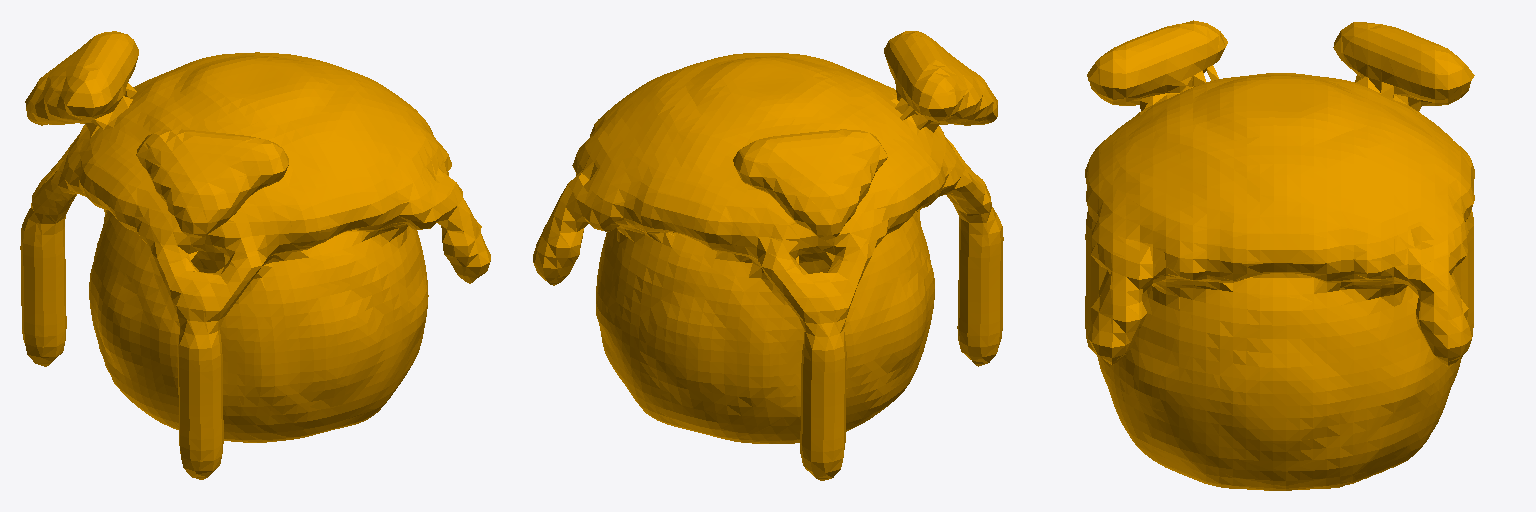
URDF robot description (object):
<?xml version="1.0"?>
<robot name="object">
  <link name="object">
    <visual>
      <origin xyz="0 0 0"/>
      <geometry>
        <mesh filename="meshes/subset_100_scaled/egad_F18_0_s.obj" scale=".03 .03 .03"/>
      </geometry>
    </visual>
    <collision>
  <origin xyz="0 0 0"/>
  <geometry>
    <mesh filename="meshes/subset_100_scaled/egad_F18_0_s_0decompose.obj" scale=".03 .03 .03"/>
<!--          <mesh filename="meshes/custom/obj0_ball.obj" scale=".05 .05 .05"/>-->
  </geometry>
</collision><collision>
  <origin xyz="0 0 0"/>
  <geometry>
    <mesh filename="meshes/subset_100_scaled/egad_F18_0_s_1decompose.obj" scale=".03 .03 .03"/>
<!--          <mesh filename="meshes/custom/obj0_ball.obj" scale=".05 .05 .05"/>-->
  </geometry>
</collision><collision>
  <origin xyz="0 0 0"/>
  <geometry>
    <mesh filename="meshes/subset_100_scaled/egad_F18_0_s_2decompose.obj" scale=".03 .03 .03"/>
<!--          <mesh filename="meshes/custom/obj0_ball.obj" scale=".05 .05 .05"/>-->
  </geometry>
</collision><collision>
  <origin xyz="0 0 0"/>
  <geometry>
    <mesh filename="meshes/subset_100_scaled/egad_F18_0_s_3decompose.obj" scale=".03 .03 .03"/>
<!--          <mesh filename="meshes/custom/obj0_ball.obj" scale=".05 .05 .05"/>-->
  </geometry>
</collision><collision>
  <origin xyz="0 0 0"/>
  <geometry>
    <mesh filename="meshes/subset_100_scaled/egad_F18_0_s_4decompose.obj" scale=".03 .03 .03"/>
<!--          <mesh filename="meshes/custom/obj0_ball.obj" scale=".05 .05 .05"/>-->
  </geometry>
</collision><collision>
  <origin xyz="0 0 0"/>
  <geometry>
    <mesh filename="meshes/subset_100_scaled/egad_F18_0_s_5decompose.obj" scale=".03 .03 .03"/>
<!--          <mesh filename="meshes/custom/obj0_ball.obj" scale=".05 .05 .05"/>-->
  </geometry>
</collision><collision>
  <origin xyz="0 0 0"/>
  <geometry>
    <mesh filename="meshes/subset_100_scaled/egad_F18_0_s_6decompose.obj" scale=".03 .03 .03"/>
<!--          <mesh filename="meshes/custom/obj0_ball.obj" scale=".05 .05 .05"/>-->
  </geometry>
</collision><collision>
  <origin xyz="0 0 0"/>
  <geometry>
    <mesh filename="meshes/subset_100_scaled/egad_F18_0_s_7decompose.obj" scale=".03 .03 .03"/>
<!--          <mesh filename="meshes/custom/obj0_ball.obj" scale=".05 .05 .05"/>-->
  </geometry>
</collision><collision>
  <origin xyz="0 0 0"/>
  <geometry>
    <mesh filename="meshes/subset_100_scaled/egad_F18_0_s_8decompose.obj" scale=".03 .03 .03"/>
<!--          <mesh filename="meshes/custom/obj0_ball.obj" scale=".05 .05 .05"/>-->
  </geometry>
</collision><collision>
  <origin xyz="0 0 0"/>
  <geometry>
    <mesh filename="meshes/subset_100_scaled/egad_F18_0_s_9decompose.obj" scale=".03 .03 .03"/>
<!--          <mesh filename="meshes/custom/obj0_ball.obj" scale=".05 .05 .05"/>-->
  </geometry>
</collision><collision>
  <origin xyz="0 0 0"/>
  <geometry>
    <mesh filename="meshes/subset_100_scaled/egad_F18_0_s_10decompose.obj" scale=".03 .03 .03"/>
<!--          <mesh filename="meshes/custom/obj0_ball.obj" scale=".05 .05 .05"/>-->
  </geometry>
</collision><collision>
  <origin xyz="0 0 0"/>
  <geometry>
    <mesh filename="meshes/subset_100_scaled/egad_F18_0_s_11decompose.obj" scale=".03 .03 .03"/>
<!--          <mesh filename="meshes/custom/obj0_ball.obj" scale=".05 .05 .05"/>-->
  </geometry>
</collision><collision>
  <origin xyz="0 0 0"/>
  <geometry>
    <mesh filename="meshes/subset_100_scaled/egad_F18_0_s_12decompose.obj" scale=".03 .03 .03"/>
<!--          <mesh filename="meshes/custom/obj0_ball.obj" scale=".05 .05 .05"/>-->
  </geometry>
</collision><collision>
  <origin xyz="0 0 0"/>
  <geometry>
    <mesh filename="meshes/subset_100_scaled/egad_F18_0_s_13decompose.obj" scale=".03 .03 .03"/>
<!--          <mesh filename="meshes/custom/obj0_ball.obj" scale=".05 .05 .05"/>-->
  </geometry>
</collision>

<!--    <collision>-->
<!--      <origin xyz="0 0 0"/>-->
<!--      <geometry>-->
<!--        <mesh filename="meshes/subset_100_scaled/egad_F18_0_s.obj" scale=".03 .03 .03"/>-->
<!--&lt;!&ndash;          <mesh filename="meshes/custom/obj0_ball.obj" scale=".05 .05 .05"/>&ndash;&gt;-->
<!--      </geometry>-->
<!--    </collision>-->
    <inertial>
      <density value="1000.0"/>
    </inertial>
  </link>
</robot>

--- What the picture shows (computed from the rendered views, not written in the file) ---
The picture shows the robot from 3 angles, left to right: view 1: azimuth 30°, elevation 25°; view 2: azimuth 150°, elevation 25°; view 3: azimuth 270°, elevation 25°; orthographic projection.
Robot: object — 1 links, 0 joints (none); root link object; default pose: every joint at zero.
Links seen in each view (by area): view 1: object; view 2: object; view 3: object.
Link boxes in pixels (x1=…): object: x1=20, y1=31, x2=490, y2=479; object: x1=533, y1=31, x2=1003, y2=480; object: x1=1085, y1=20, x2=1474, y2=490.
Bounding box of the posed robot: 0.06 × 0.06 × 0.06 m (x, y, z).
Meshes: 1 distinct files referenced, 1 mesh visuals loaded (1 OBJ).
